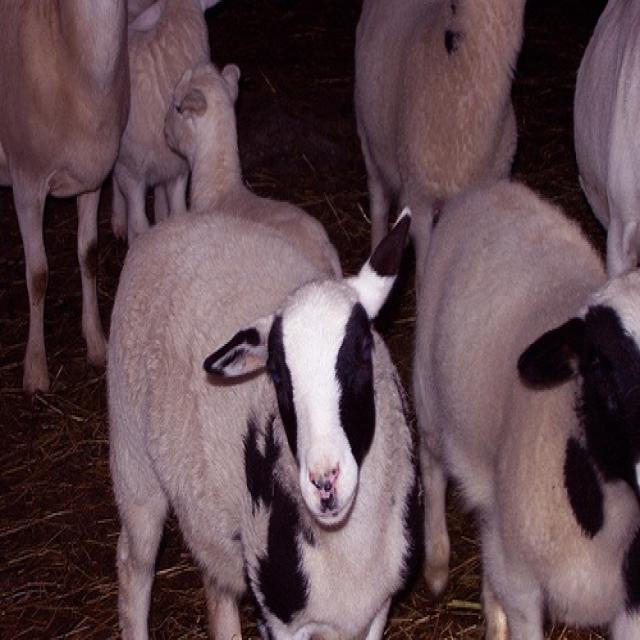sheep: (100, 204, 410, 638), (412, 175, 639, 632), (0, 0, 137, 398), (349, 0, 539, 265), (162, 61, 346, 298)
